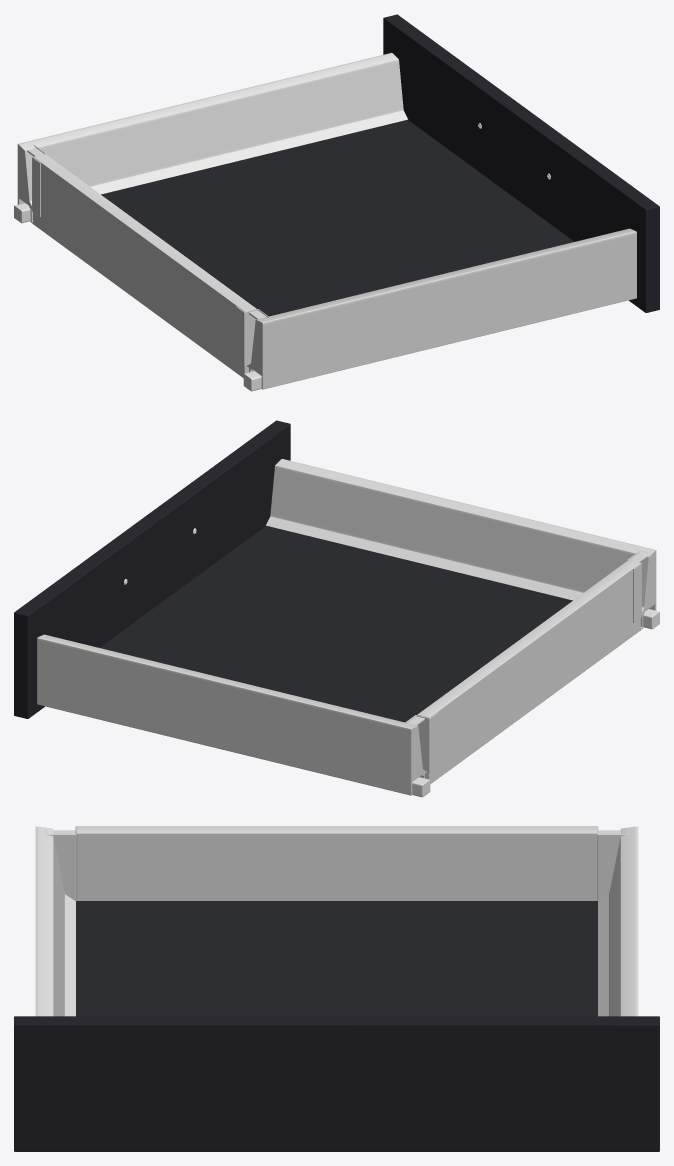
File: Kitchen09Drawer01.fbx
The picture shows the model from 3 angles, top to bottom: view 1: azimuth 30°, elevation 25°; view 2: azimuth 150°, elevation 25°; view 3: azimuth 270°, elevation 25°; orthographic projection. The views are drawn at different scales.
Parts seen in each view (by area): view 1: Kitchen09Drawer01; view 2: Kitchen09Drawer01; view 3: Kitchen09Drawer01.
Boxes of the visible parts, x1,y1,x2,y2 form: Kitchen09Drawer01: (14, 14, 659, 391); Kitchen09Drawer01: (14, 420, 659, 797); Kitchen09Drawer01: (14, 826, 659, 1151).
Size of the model in its own units: 51.99 by 59.69 by 13.
Materials: 4 (1 with a texture image).
